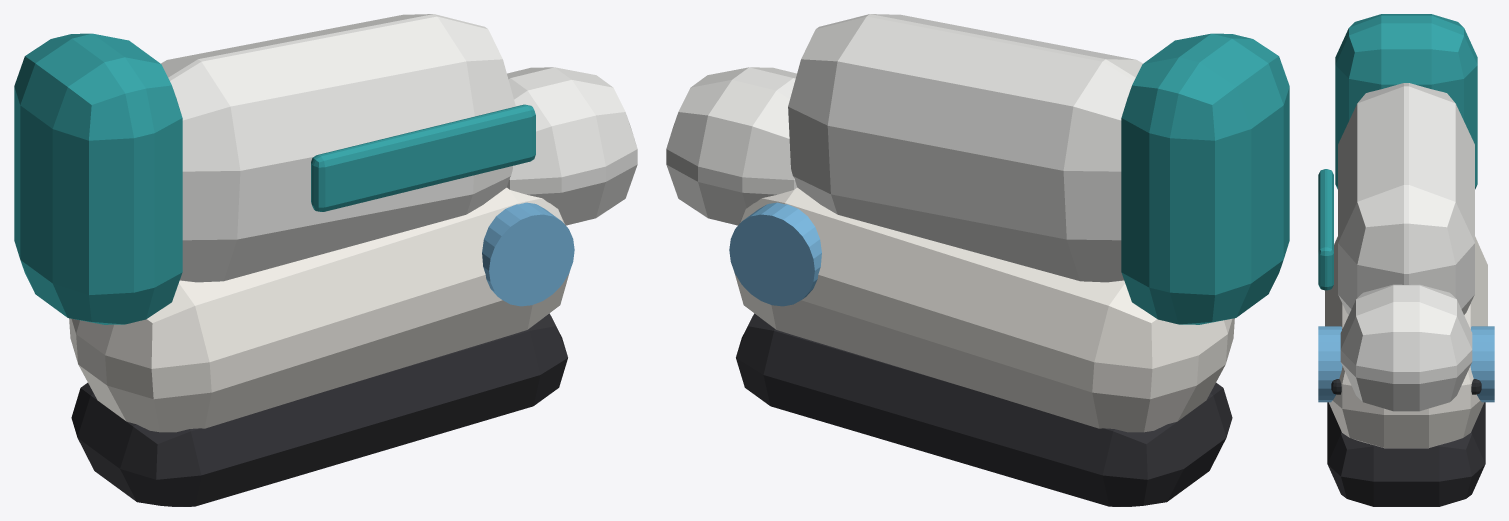
Rendered from nike-alphafly-next-study.glb.
3 renders of one model, left to right at view 1: azimuth 30°, elevation 25°; view 2: azimuth 150°, elevation 25°; view 3: azimuth 270°, elevation 25°, orthographic. The views are drawn at different scales.
Visible parts, largest first — view 1: nike-alphafly-next-study_UPPER, nike-alphafly-next-study_MIDSOLE, nike-alphafly-next-study_HEEL, nike-alphafly-next-study_OUTSOLE, nike-alphafly-next-study_TOE, nike-alphafly-next-study_MUSEUM_ID_PANEL, nike-alphafly-next-study; view 2: nike-alphafly-next-study_UPPER, nike-alphafly-next-study_MIDSOLE, nike-alphafly-next-study_HEEL, nike-alphafly-next-study_OUTSOLE, nike-alphafly-next-study_TOE, nike-alphafly-next-study; view 3: nike-alphafly-next-study_UPPER, nike-alphafly-next-study_TOE, nike-alphafly-next-study_HEEL, nike-alphafly-next-study_OUTSOLE, nike-alphafly-next-study_MIDSOLE, nike-alphafly-next-study, nike-alphafly-next-study_MUSEUM_ID_PANEL, nike-alphafly-next-study_CARBON_PLATE.
Boxes of the visible parts, x1,y1,x2,y2 form: nike-alphafly-next-study_UPPER: (161, 14, 515, 282); nike-alphafly-next-study_MIDSOLE: (69, 187, 569, 432); nike-alphafly-next-study_HEEL: (14, 33, 182, 324); nike-alphafly-next-study_OUTSOLE: (71, 313, 567, 506); nike-alphafly-next-study_TOE: (506, 67, 637, 225); nike-alphafly-next-study_MUSEUM_ID_PANEL: (311, 104, 535, 211); nike-alphafly-next-study: (482, 202, 574, 306); nike-alphafly-next-study_UPPER: (788, 14, 1142, 282); nike-alphafly-next-study_MIDSOLE: (734, 187, 1234, 432); nike-alphafly-next-study_HEEL: (1121, 33, 1289, 324); nike-alphafly-next-study_OUTSOLE: (736, 313, 1232, 506); nike-alphafly-next-study_TOE: (666, 67, 797, 225); nike-alphafly-next-study: (729, 202, 821, 306); nike-alphafly-next-study_UPPER: (1338, 83, 1474, 314); nike-alphafly-next-study_TOE: (1340, 284, 1472, 411); nike-alphafly-next-study_HEEL: (1335, 14, 1477, 189); nike-alphafly-next-study_OUTSOLE: (1327, 402, 1485, 506); nike-alphafly-next-study_MIDSOLE: (1325, 236, 1487, 448); nike-alphafly-next-study: (1318, 326, 1494, 402); nike-alphafly-next-study_MUSEUM_ID_PANEL: (1318, 169, 1333, 290); nike-alphafly-next-study_CARBON_PLATE: (1331, 379, 1481, 394).
Bounding box in the file's own units: 0.397 × 0.2957 × 0.134.
